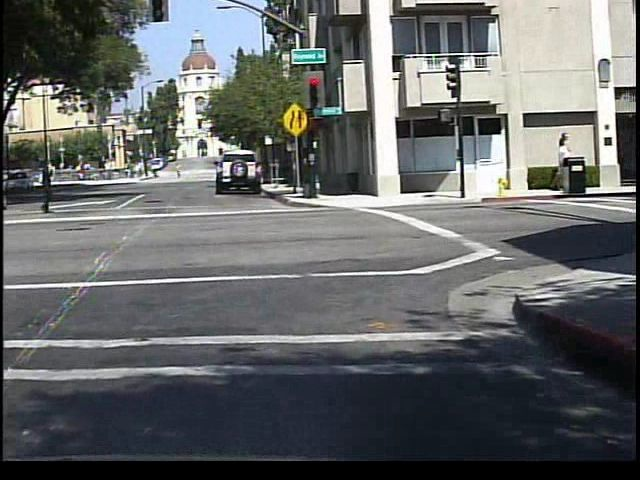person: (28, 156, 61, 217), (2, 168, 30, 230), (171, 160, 182, 180), (147, 164, 158, 180)
